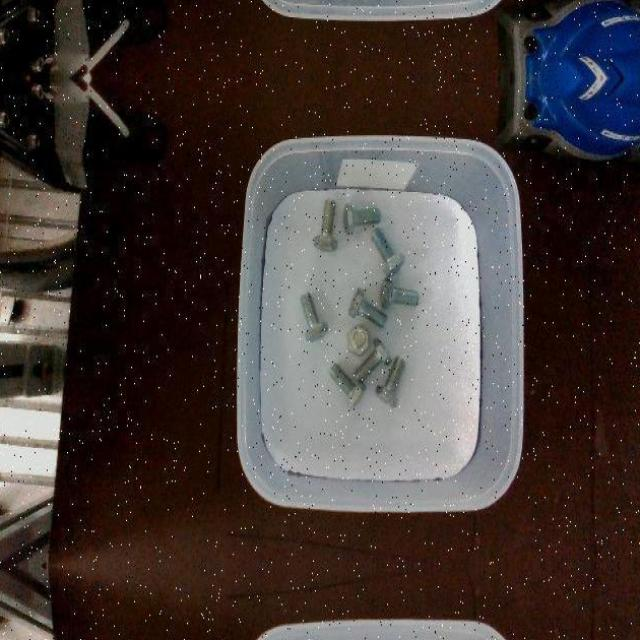screw: (370, 225, 404, 277), (354, 336, 392, 382), (328, 362, 365, 409), (347, 288, 386, 328), (376, 355, 406, 407), (301, 290, 328, 342), (380, 278, 421, 310), (342, 203, 381, 236), (313, 198, 337, 251), (347, 324, 369, 355)
